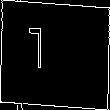L_S: (47, 29, 63, 81)
